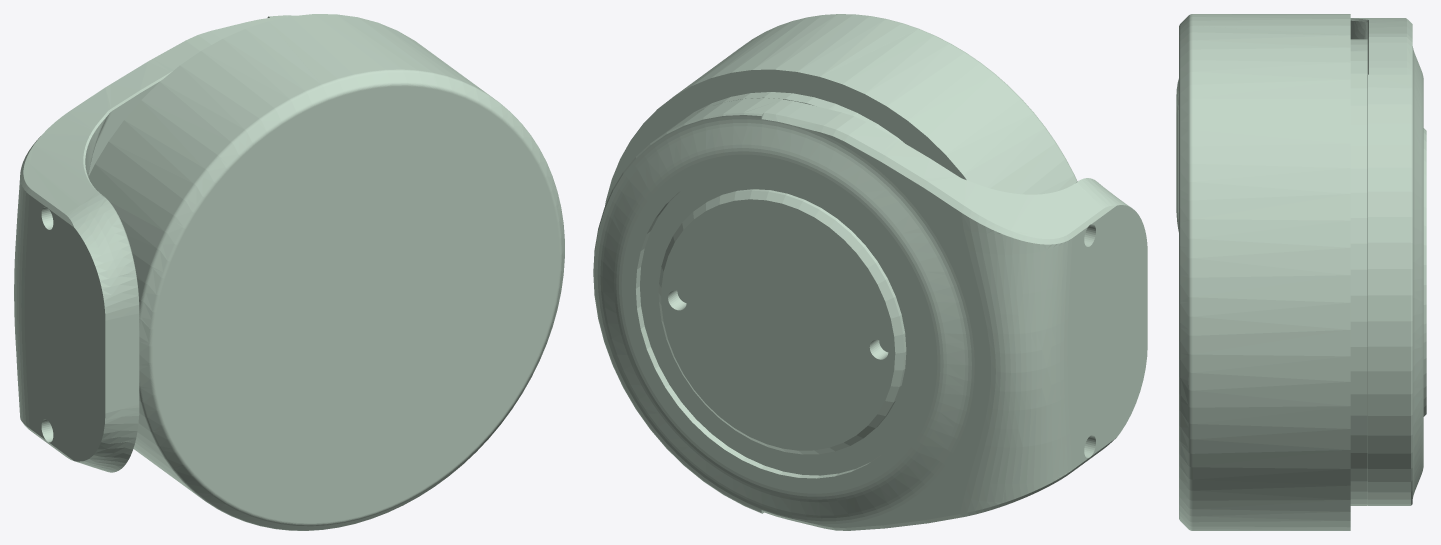
Rendered from hip.dae.
3 views of the same model, side by side, from view 1: azimuth 30°, elevation 25°; view 2: azimuth 150°, elevation 25°; view 3: azimuth 270°, elevation 25° (orthographic). The views are drawn at different scales.
Visible parts, largest first — view 1: Hip; view 2: Hip; view 3: Hip.
Boxes of the visible parts, x1=… form: Hip: x1=14, y1=14, x2=564, y2=530; Hip: x1=593, y1=14, x2=1147, y2=530; Hip: x1=1176, y1=14, x2=1426, y2=530.
Bounding box in the file's own units: 0.1 × 0.0445 × 0.092.
